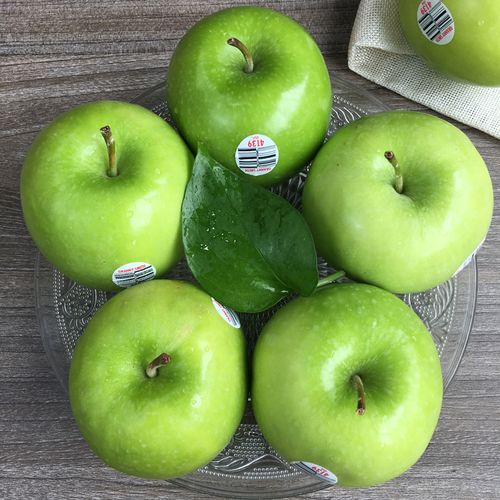unripe: (253, 279, 458, 492), (9, 80, 202, 290), (304, 98, 500, 302), (55, 279, 250, 481), (165, 1, 333, 193)
